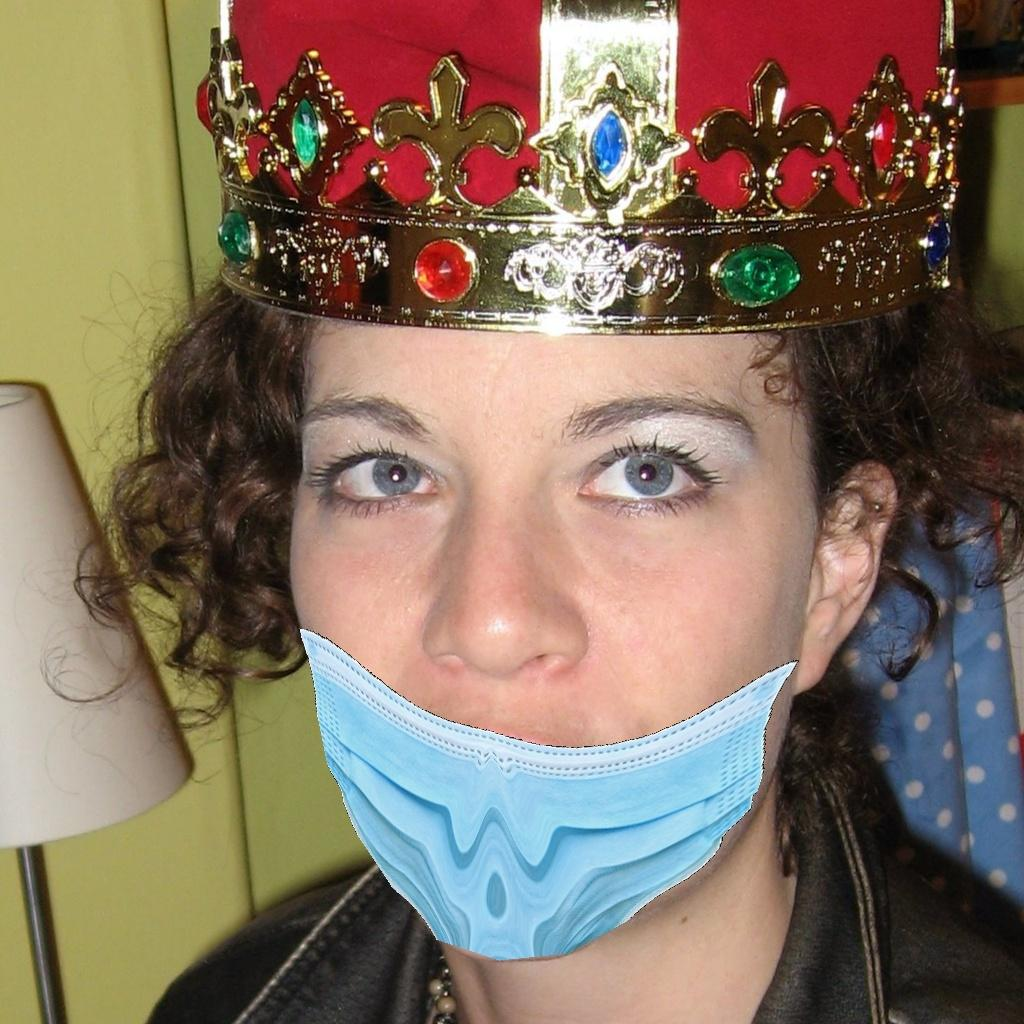Máscara Incorreta: (256, 228, 828, 949)
